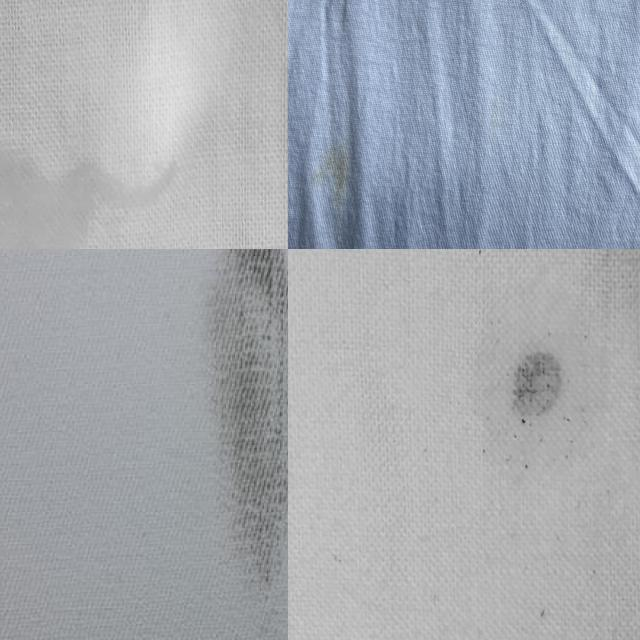Thread_other: (114, 249, 288, 634), (464, 322, 592, 460), (305, 134, 357, 204)
